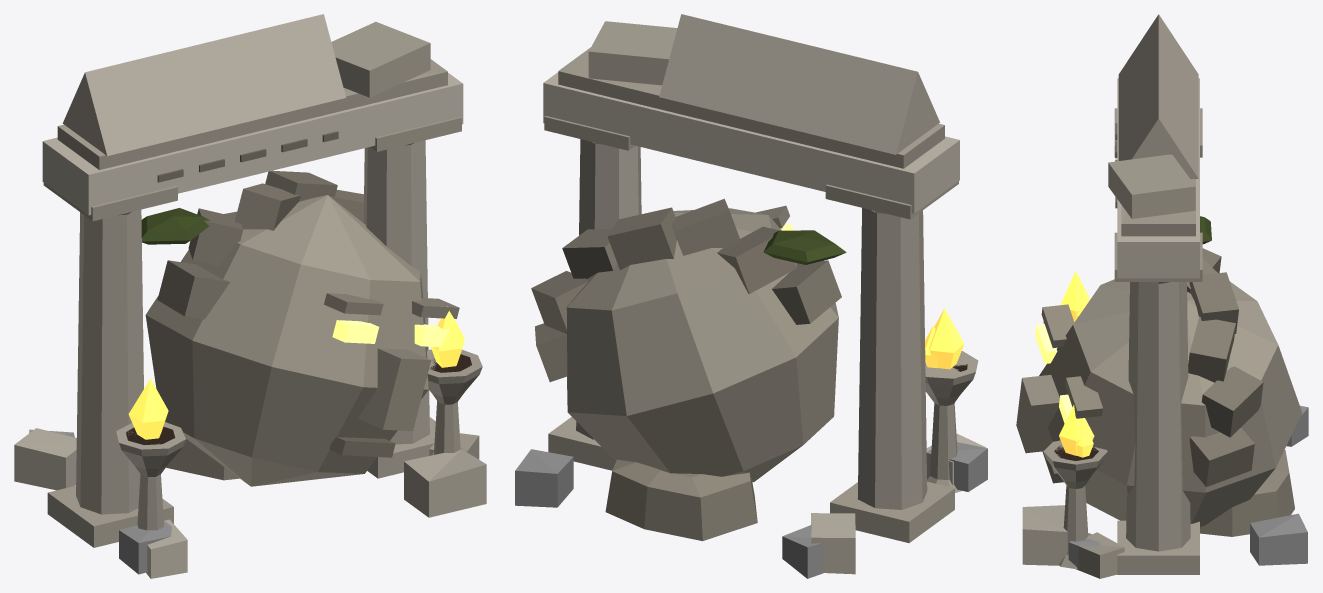
The model's file is ruins.glb.
3 views of the same model, side by side, from view 1: azimuth 30°, elevation 25°; view 2: azimuth 150°, elevation 25°; view 3: azimuth 270°, elevation 25° (orthographic). The views are drawn at different scales.
Parts seen in each view (by area): view 1: ruins_temple_gate_a, ruins_colossus_head_a; view 2: ruins_temple_gate_a, ruins_colossus_head_a; view 3: ruins_temple_gate_a, ruins_colossus_head_a.
Part boxes in pixels (left/top/right/bottom): ruins_temple_gate_a: left=14, top=14, right=486, bottom=578; ruins_colossus_head_a: left=29, top=170, right=466, bottom=574; ruins_temple_gate_a: left=543, top=14, right=985, bottom=574; ruins_colossus_head_a: left=515, top=198, right=987, bottom=578; ruins_temple_gate_a: left=1022, top=14, right=1202, bottom=578; ruins_colossus_head_a: left=1016, top=216, right=1308, bottom=568.
Bounding box in the file's own units: 2.95 × 3.38 × 2.19.
